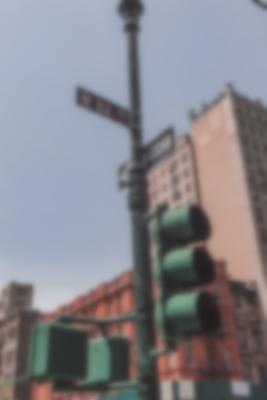International Road Signal Light: (153, 204, 222, 339)
